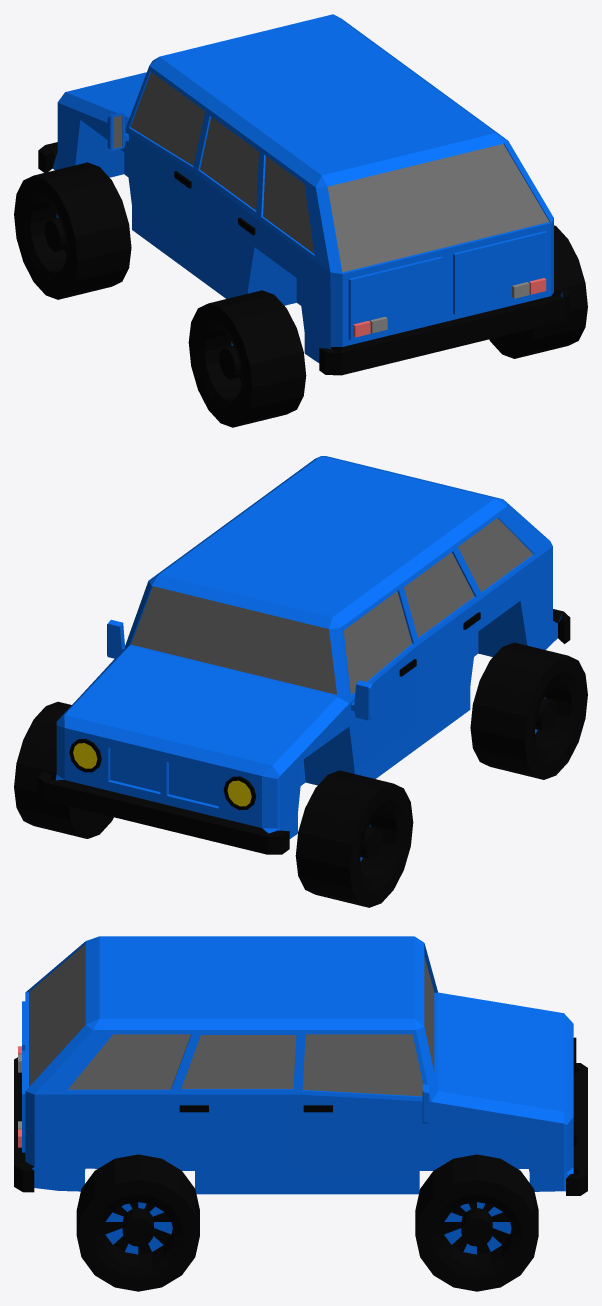
Rendered from Car002.glb.
The picture shows the model from 3 angles, top to bottom: view 1: azimuth 30°, elevation 25°; view 2: azimuth 150°, elevation 25°; view 3: azimuth 270°, elevation 25°; orthographic projection. The views are drawn at different scales.
Visible parts, largest first — view 1: Body, WheelFL, WheelRL, WheelRR; view 2: Body, WheelRL, WheelFL, WheelFR, FrontLight; view 3: Body, WheelFR, WheelRR.
Part boxes in pixels (<box>): Body: <box>38,14,571,375</box>; WheelFL: <box>14,162,131,299</box>; WheelRL: <box>188,290,306,427</box>; WheelRR: <box>489,225,587,358</box>; Body: <box>37,456,570,854</box>; WheelRL: <box>470,642,587,779</box>; WheelFL: <box>295,770,413,907</box>; WheelFR: <box>14,701,113,838</box>; FrontLight: <box>69,738,256,810</box>; Body: <box>14,936,587,1195</box>; WheelFR: <box>415,1154,538,1291</box>; WheelRR: <box>76,1154,199,1291</box>.
Size of the model in its own units: 6.84 by 4.72 by 10.45.
Materials: 5 (5 with a texture image).
